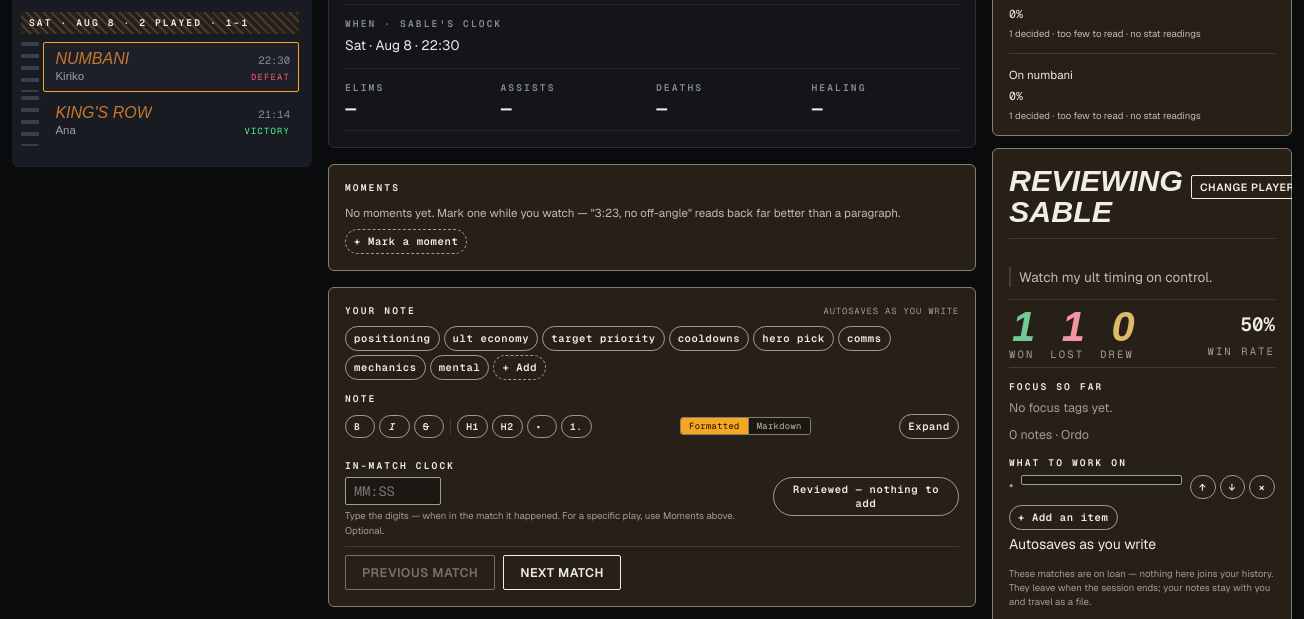
Test: CoachRoomView — who is this? › keeps the editor writable while a confirmed handle is corrected
Click the button "Change player": [1241, 187] box x1=1191 y1=175 x2=1292 y2=199
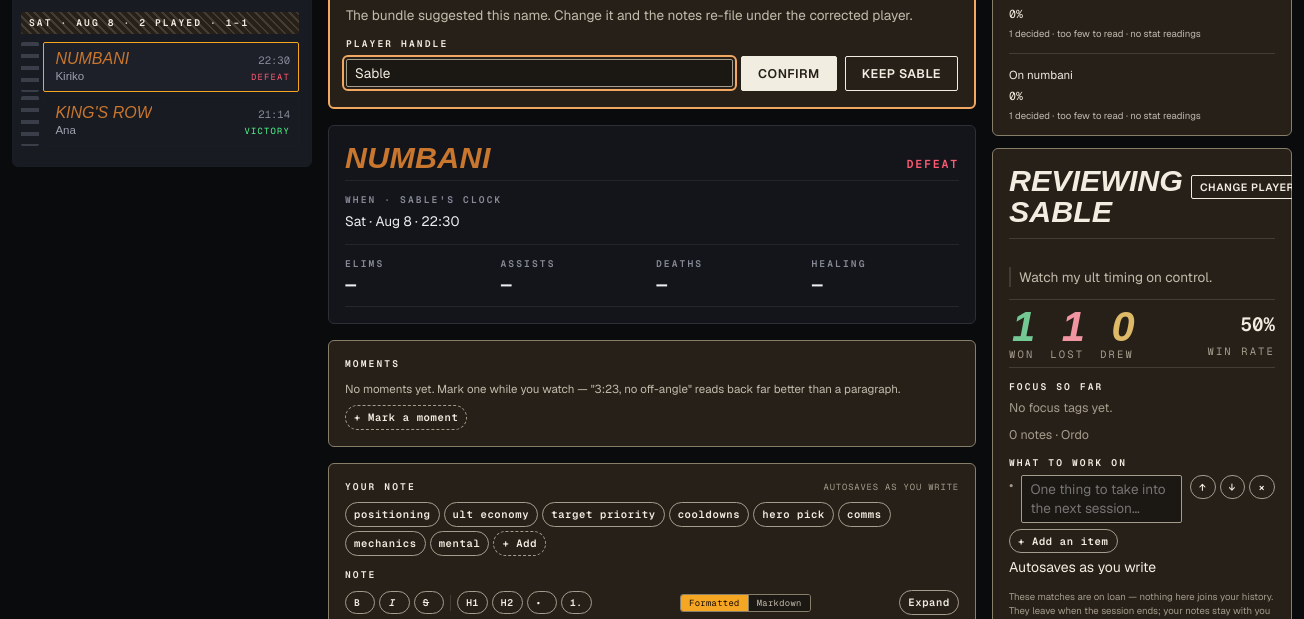
Click the button "Markdown": [779, 602] box x1=748 y1=594 x2=810 y2=610
(page scrolled)
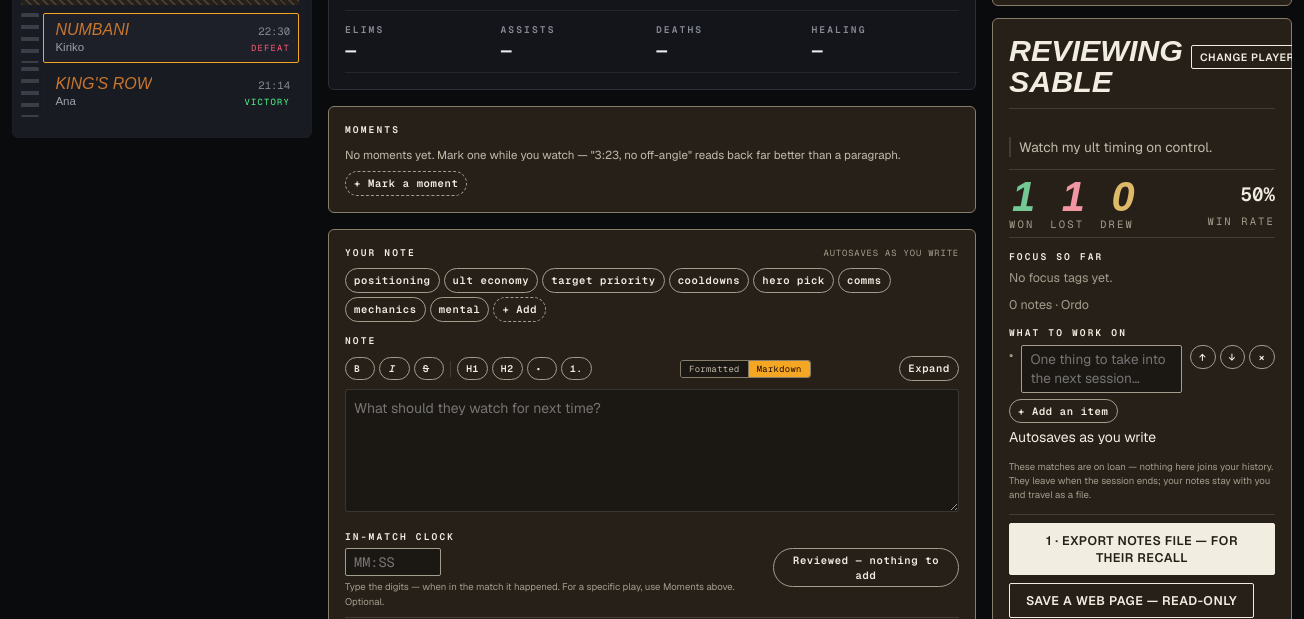
Expected: the text box named "Note" is enabled, x1=345 y1=389 x2=959 y2=512
